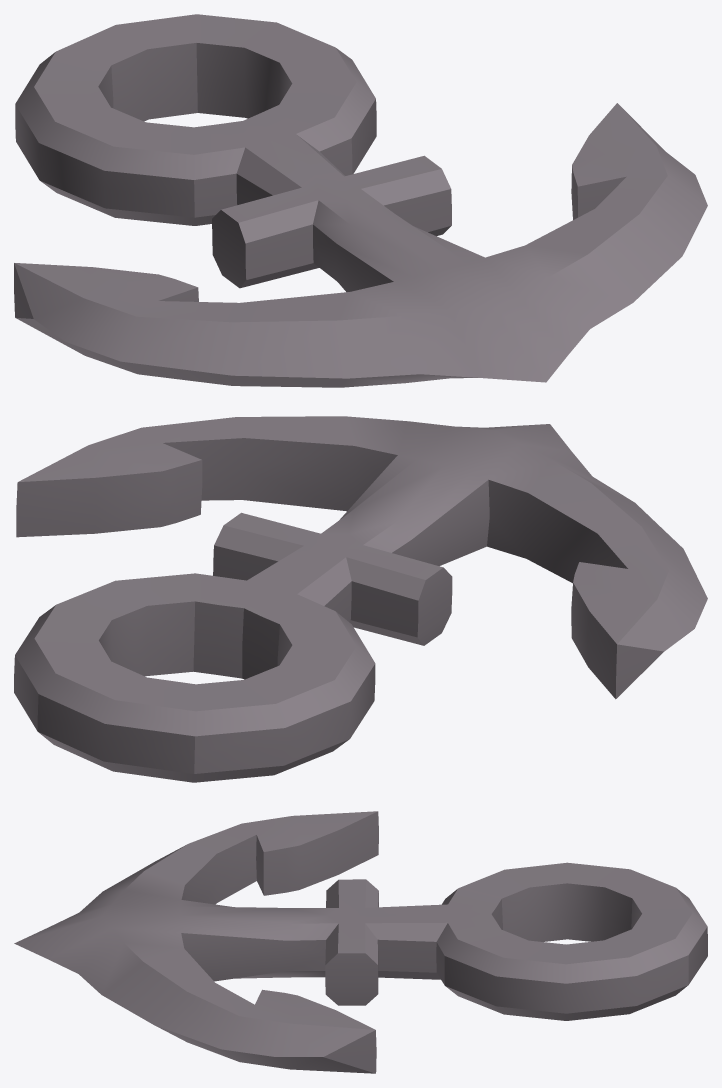
The model's file is anchor-IeqD0Ff1.glb.
3 views of the same model, one above another, from view 1: azimuth 30°, elevation 25°; view 2: azimuth 150°, elevation 25°; view 3: azimuth 270°, elevation 25° (orthographic). The views are drawn at different scales.
Parts seen in each view (by area): view 1: Prop_Anchor; view 2: Prop_Anchor; view 3: Prop_Anchor.
Part boxes in pixels (left/top/right/bottom): Prop_Anchor: left=14, top=14, right=707, bottom=387; Prop_Anchor: left=14, top=416, right=707, bottom=782; Prop_Anchor: left=14, top=811, right=707, bottom=1073.
Size of the model in its own units: 0.7807 by 0.0932 by 0.9507.
Materials: 1 (1 with a texture image).
